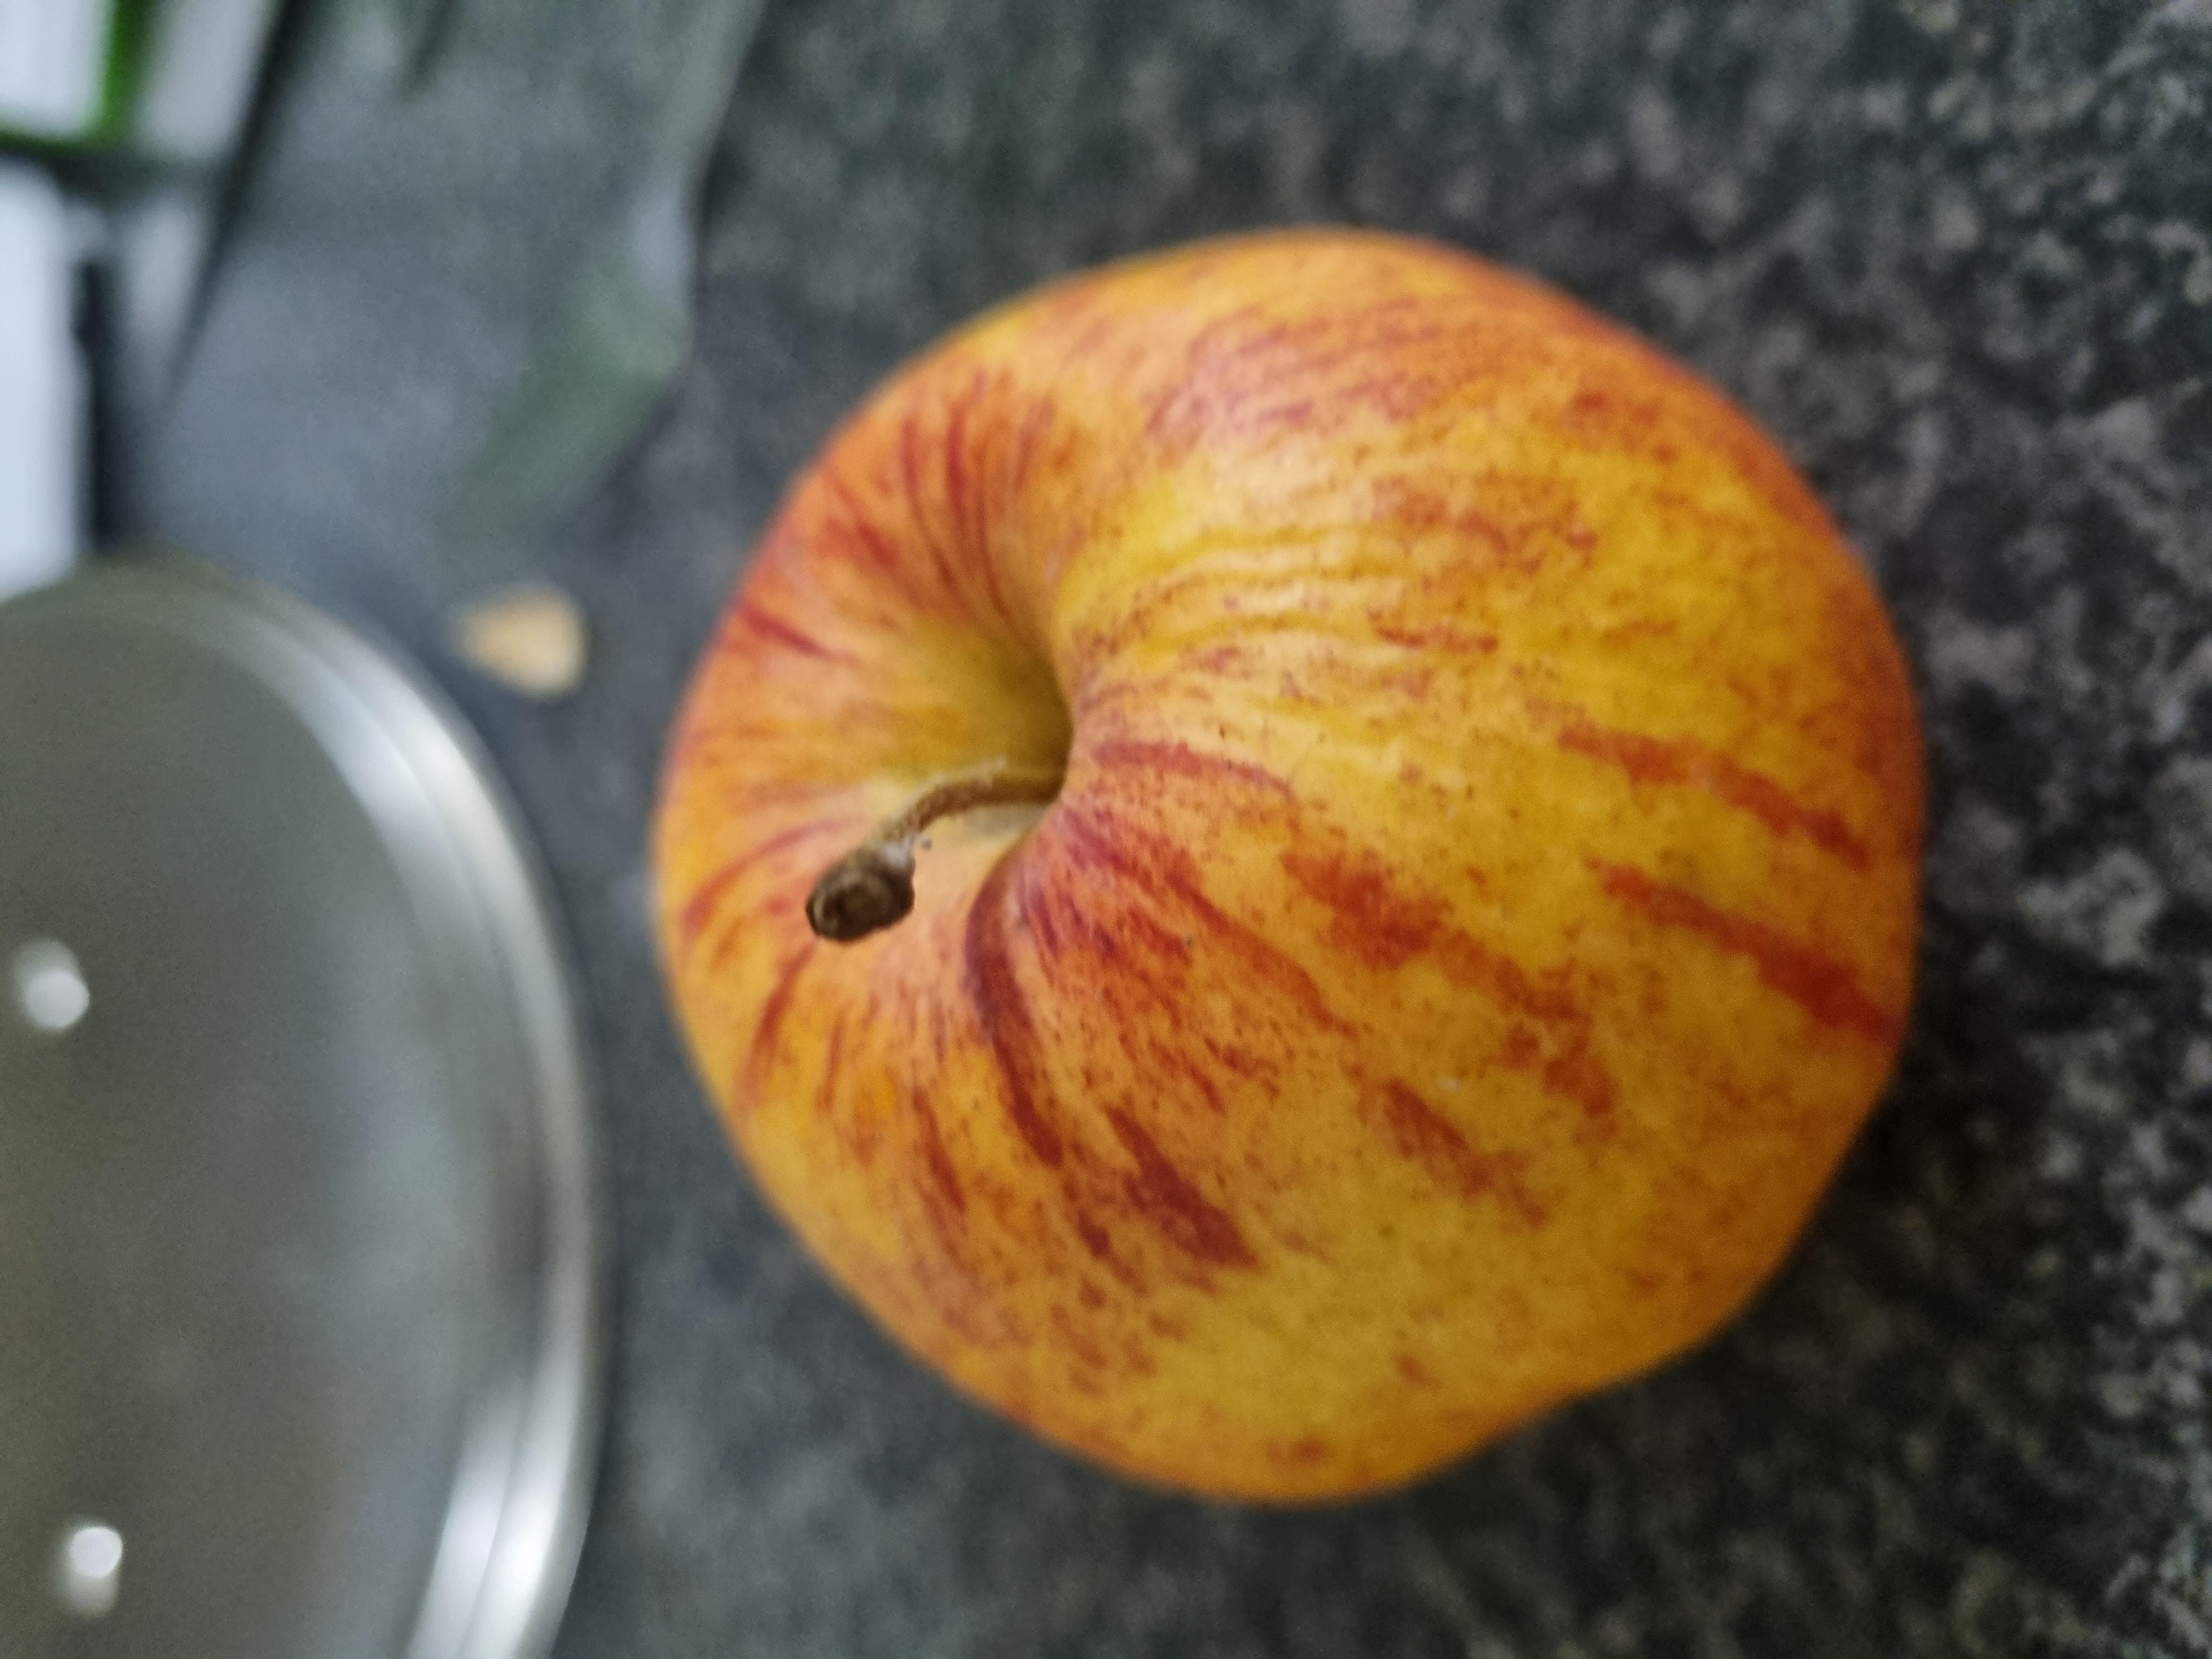Apple: (181, 464, 1954, 1448)
